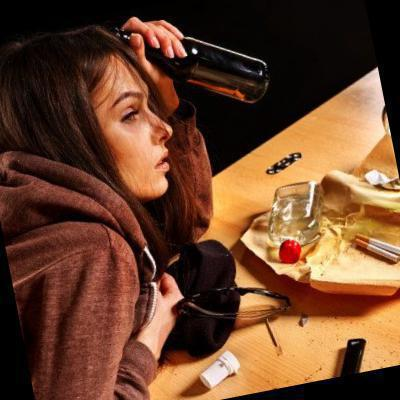Drunk: (109, 49, 176, 201)
